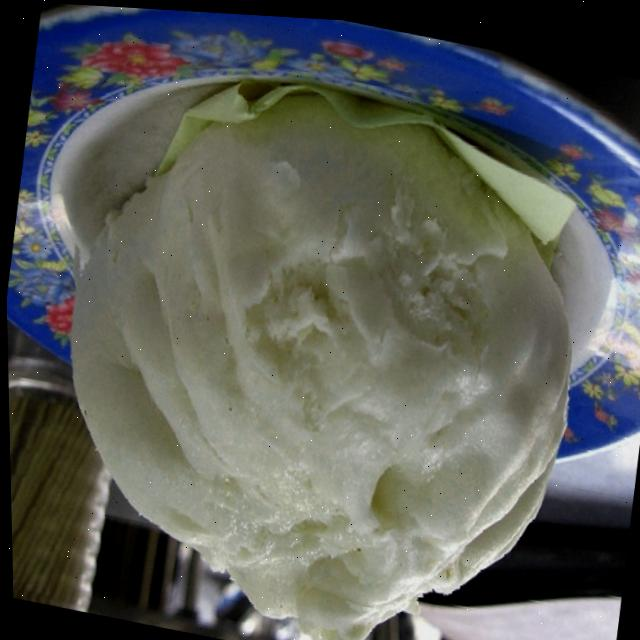带馅早点: (14, 28, 621, 640)
